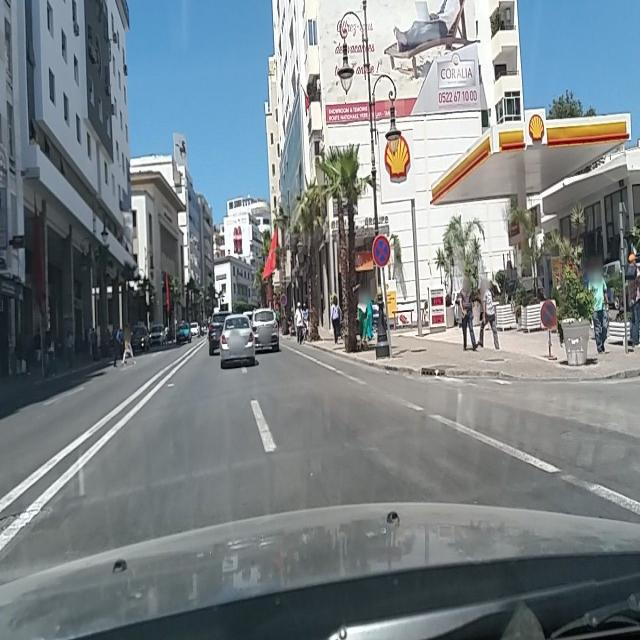forb_stopping: (540, 299, 557, 330)
forb_waiting: (374, 238, 388, 265)
